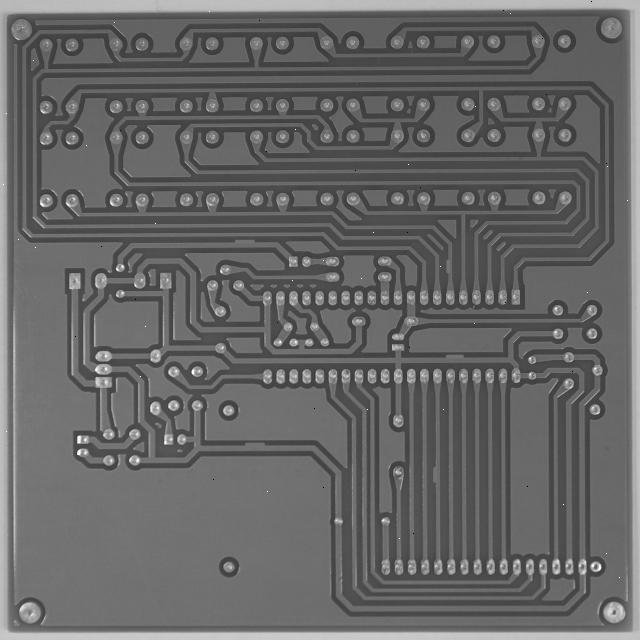spur: (494, 434, 516, 465), (278, 408, 313, 425), (509, 306, 543, 323), (268, 173, 300, 190), (511, 197, 526, 220)
